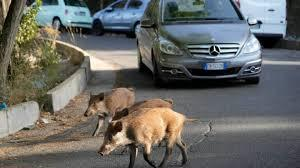wildboar: (97, 106, 201, 168), (82, 85, 137, 137)
